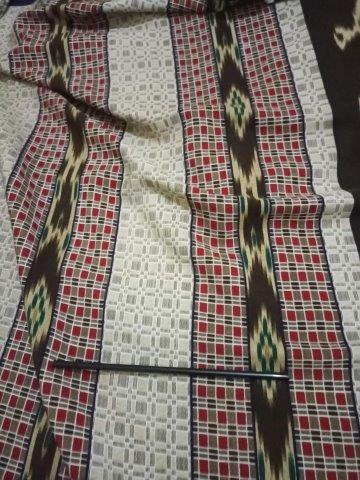sedotan: (54, 361, 289, 380)
